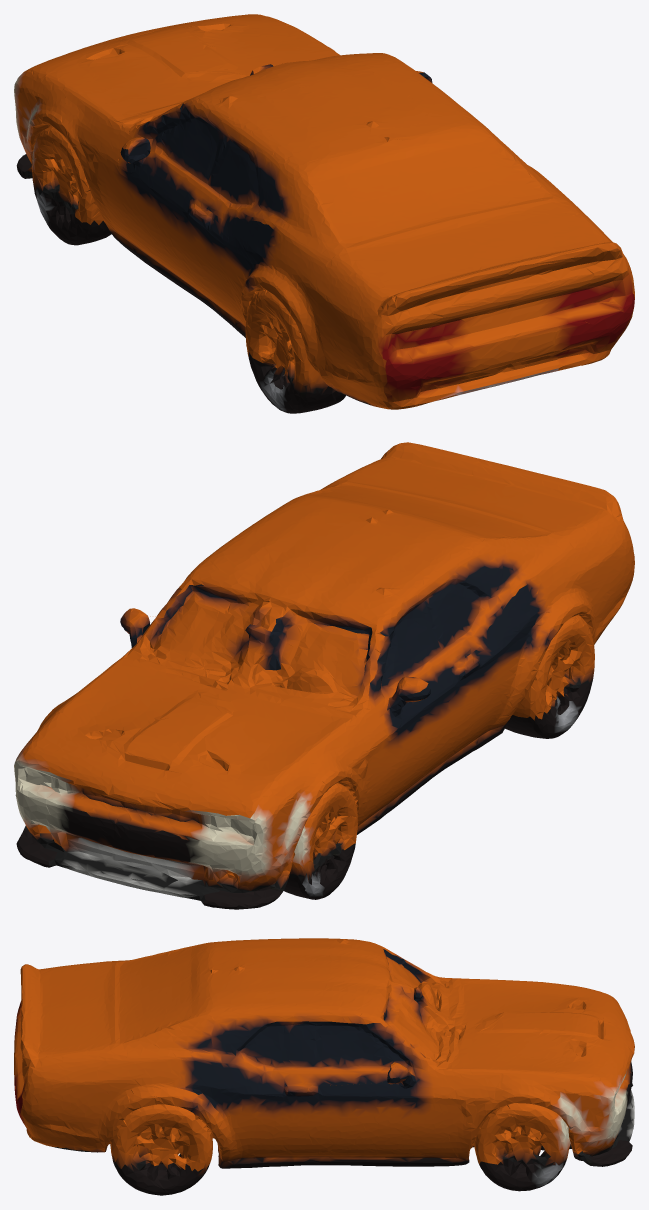
Rendered from challenger.glb.
The picture shows the model from 3 angles, top to bottom: view 1: azimuth 30°, elevation 25°; view 2: azimuth 150°, elevation 25°; view 3: azimuth 270°, elevation 25°; orthographic projection. The views are drawn at different scales.
Visible parts, largest first — view 1: body, wheel_1, wheel_0; view 2: body, wheel_0, wheel_1, wheel_2; view 3: body, wheel_2, wheel_3.
Part boxes in pixels (x1,y1,x2,y2): body: [14, 14, 634, 409]; wheel_1: [248, 351, 345, 413]; wheel_0: [17, 154, 111, 245]; body: [14, 442, 634, 909]; wheel_0: [202, 843, 355, 909]; wheel_1: [505, 680, 592, 738]; wheel_2: [16, 828, 57, 867]; body: [14, 938, 634, 1195]; wheel_2: [478, 1140, 632, 1191]; wheel_3: [116, 1154, 314, 1194].
Size of the model in its own units: 96.8 by 66.16 by 212.
